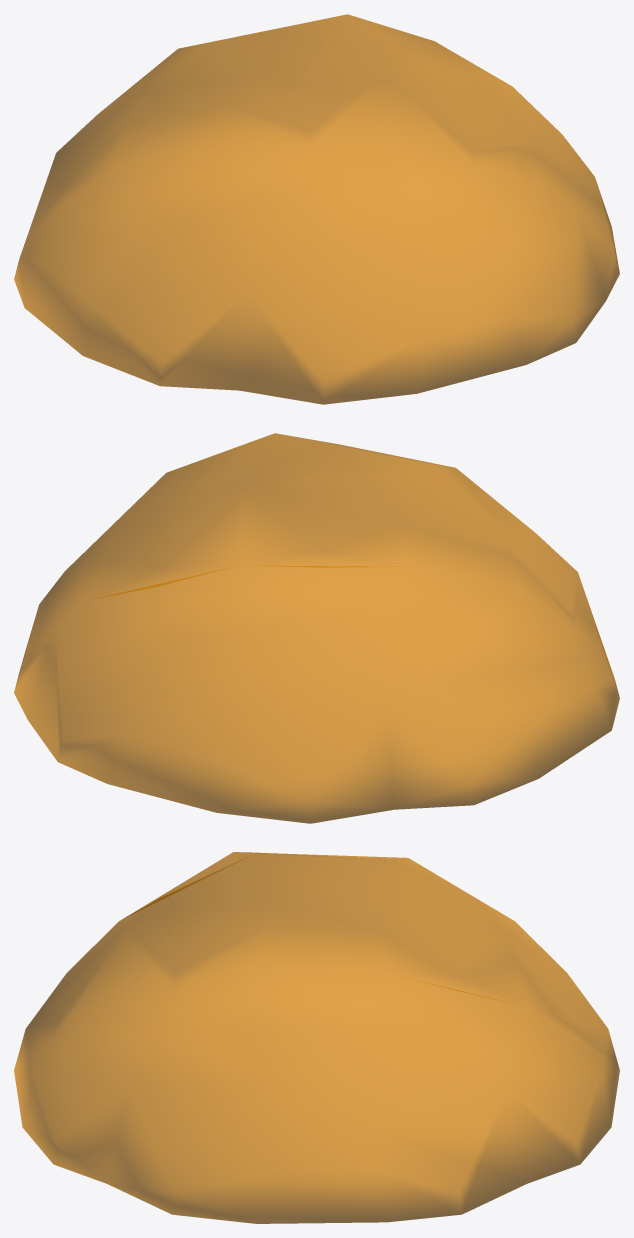
The model's file is BioMassEgg.fbx.
3 renders of one model, top to bottom at view 1: azimuth 30°, elevation 25°; view 2: azimuth 150°, elevation 25°; view 3: azimuth 270°, elevation 25°, orthographic.
Parts seen in each view (by area): view 1: Egg; view 2: Egg; view 3: Egg.
Part boxes in pixels (left/top/right/bottom): Egg: left=14, top=14, right=619, bottom=404; Egg: left=14, top=433, right=619, bottom=823; Egg: left=14, top=852, right=619, bottom=1223.
Size of the model in its own units: 198 by 80.38 by 198.
